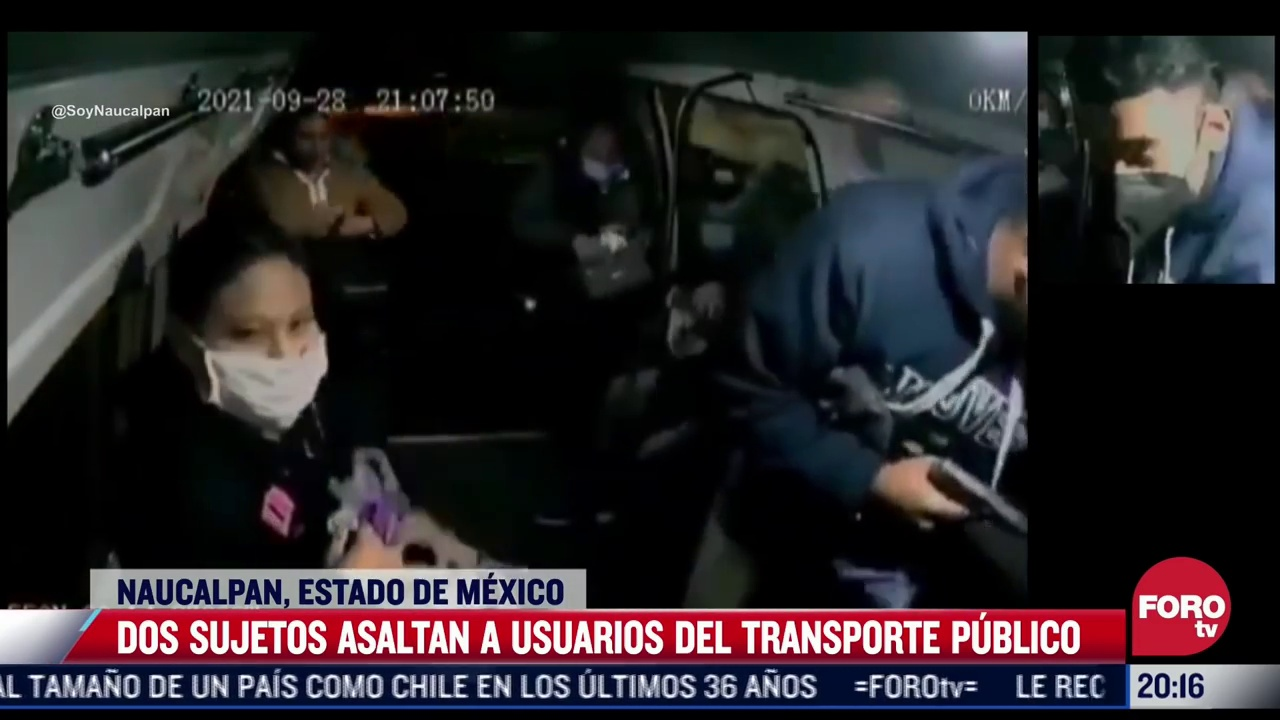pistol: (926, 458, 1027, 534)
